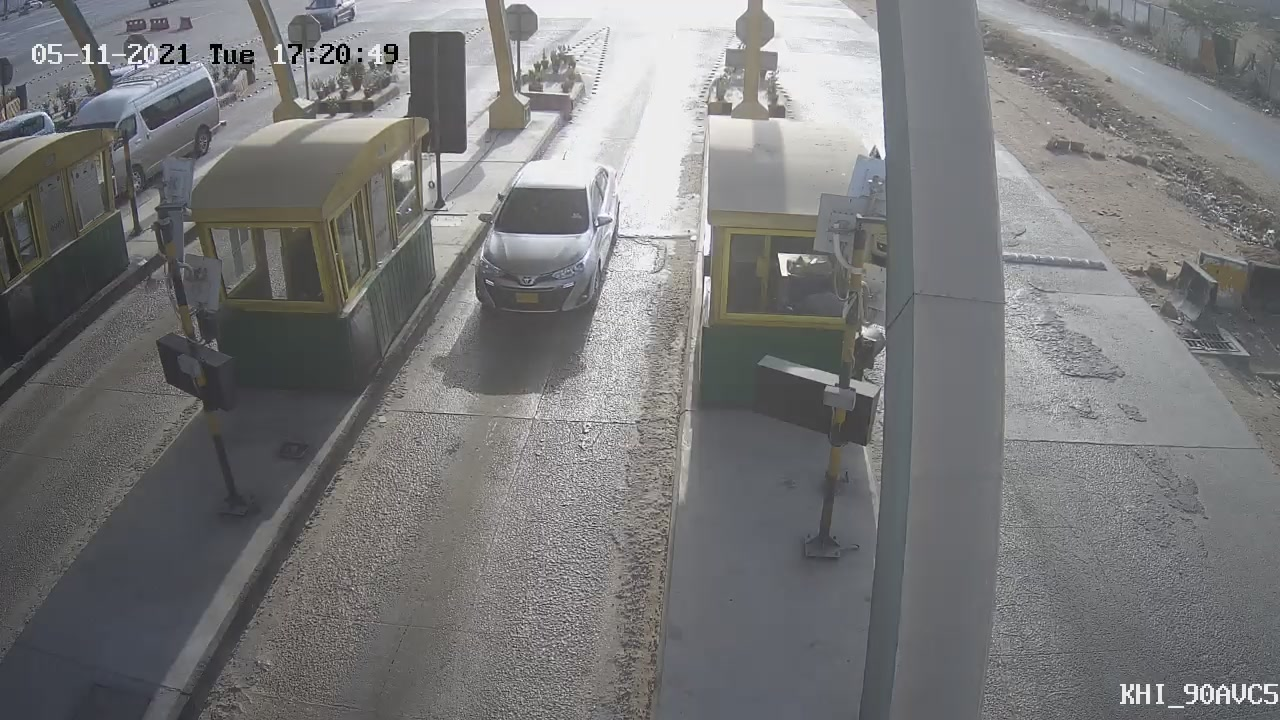F1: (450, 144, 638, 339)
